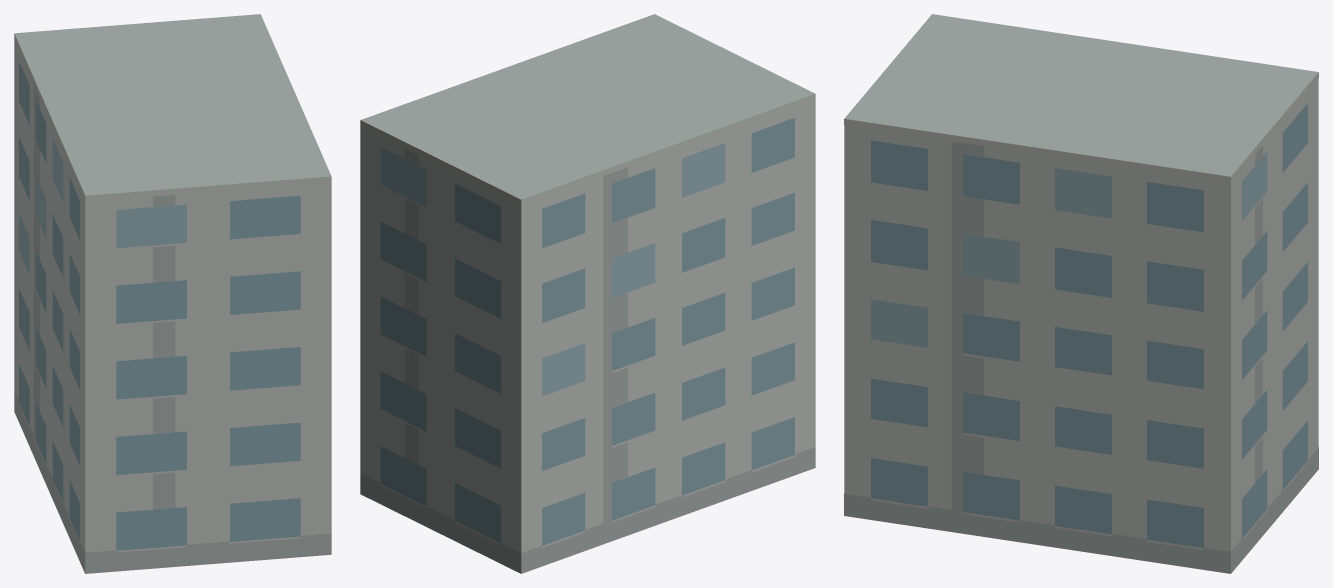
The model's file is residential-efa96d16-e06c-4a06-8f64-8d445860306d.glb.
3 renders of one model, left to right at view 1: azimuth 30°, elevation 25°; view 2: azimuth 150°, elevation 25°; view 3: azimuth 270°, elevation 25°, orthographic. The views are drawn at different scales.
Visible parts, largest first — view 1: residential-efa96d16-e06c-4a06-8f64-8d445860306d.tmp; view 2: residential-efa96d16-e06c-4a06-8f64-8d445860306d.tmp; view 3: residential-efa96d16-e06c-4a06-8f64-8d445860306d.tmp.
Boxes of the visible parts, <box> form: residential-efa96d16-e06c-4a06-8f64-8d445860306d.tmp: <box>14,14,331,573</box>; residential-efa96d16-e06c-4a06-8f64-8d445860306d.tmp: <box>360,14,815,573</box>; residential-efa96d16-e06c-4a06-8f64-8d445860306d.tmp: <box>844,14,1318,573</box>.
Size of the model in its own units: 13.42 by 15.25 by 16.53.
